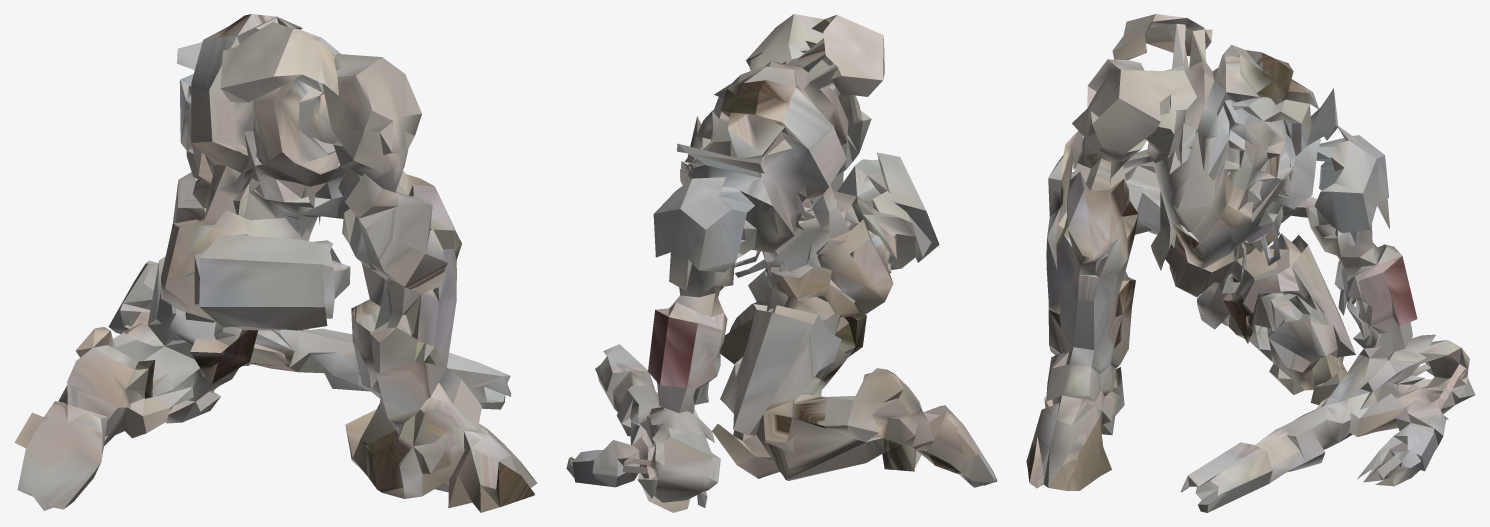
File: k01_far.glb
3 renders of one model, left to right at view 1: azimuth 30°, elevation 25°; view 2: azimuth 150°, elevation 25°; view 3: azimuth 270°, elevation 25°, orthographic. The views are drawn at different scales.
Parts seen in each view (by area): view 1: k01_far; view 2: k01_far; view 3: k01_far.
Boxes of the visible parts, bbox=[...] form: k01_far: bbox=[14, 14, 537, 512]; k01_far: bbox=[566, 14, 997, 512]; k01_far: bbox=[1026, 14, 1475, 512].
Bounding box in the file's own units: 23.48 × 22 × 22.25.
Materials: 1 (1 with a texture image).
